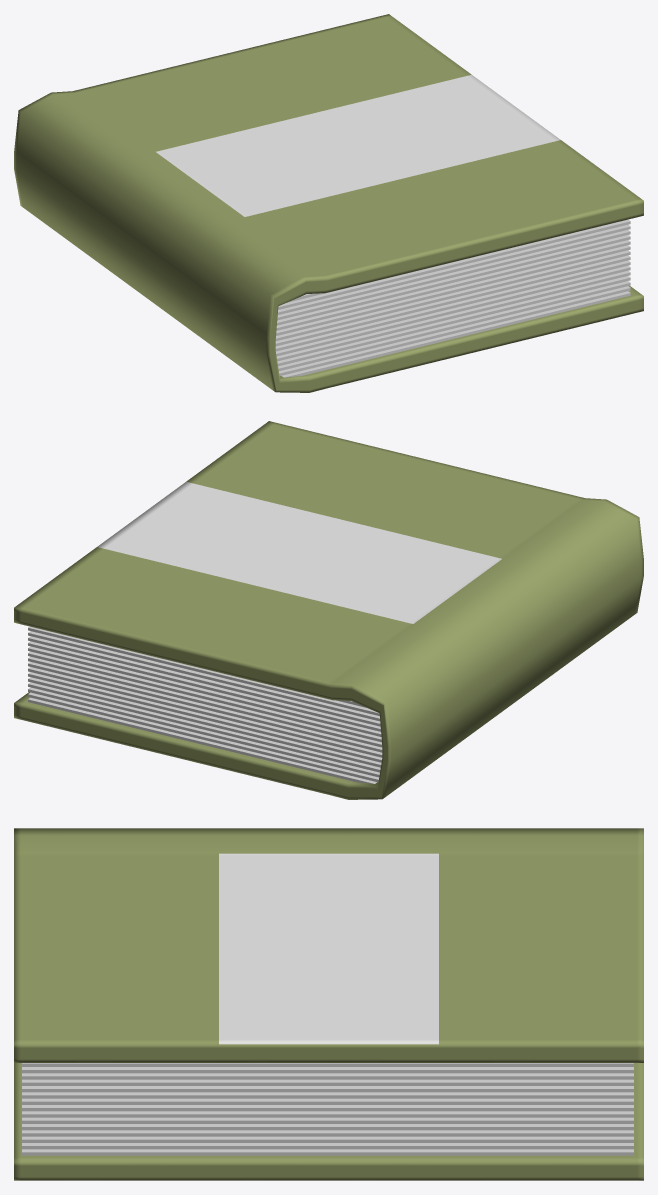
Rendered from book.glb.
The picture shows the model from 3 angles, top to bottom: view 1: azimuth 30°, elevation 25°; view 2: azimuth 150°, elevation 25°; view 3: azimuth 270°, elevation 25°; orthographic projection. The views are drawn at different scales.
Parts seen in each view (by area): view 1: book close_paper.016; view 2: book close_paper.016; view 3: book close_paper.016.
Boxes of the visible parts, left/top/right/bottom form: book close_paper.016: left=14, top=14, right=643, bottom=392; book close_paper.016: left=14, top=421, right=643, bottom=799; book close_paper.016: left=14, top=828, right=643, bottom=1180.
Size of the model in its own units: 0.1263 by 0.0369 by 0.1488.
